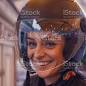helmets: (10, 0, 86, 85)
